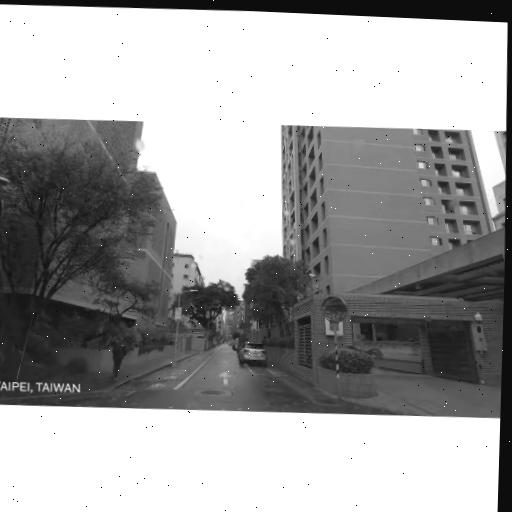Car: (238, 341, 269, 367), (237, 336, 248, 356), (234, 339, 241, 351), (224, 340, 228, 344), (231, 341, 234, 346), (229, 343, 232, 346)
